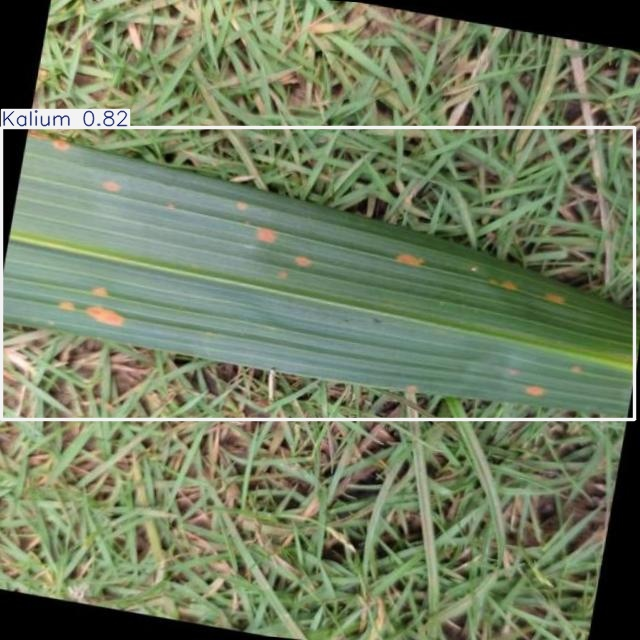Kalium: (1, 128, 634, 420)
